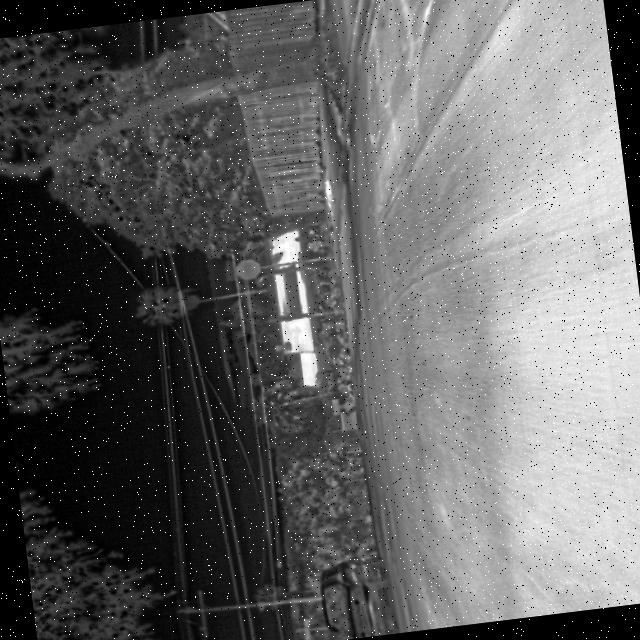Vehicle: (311, 549, 398, 640)
